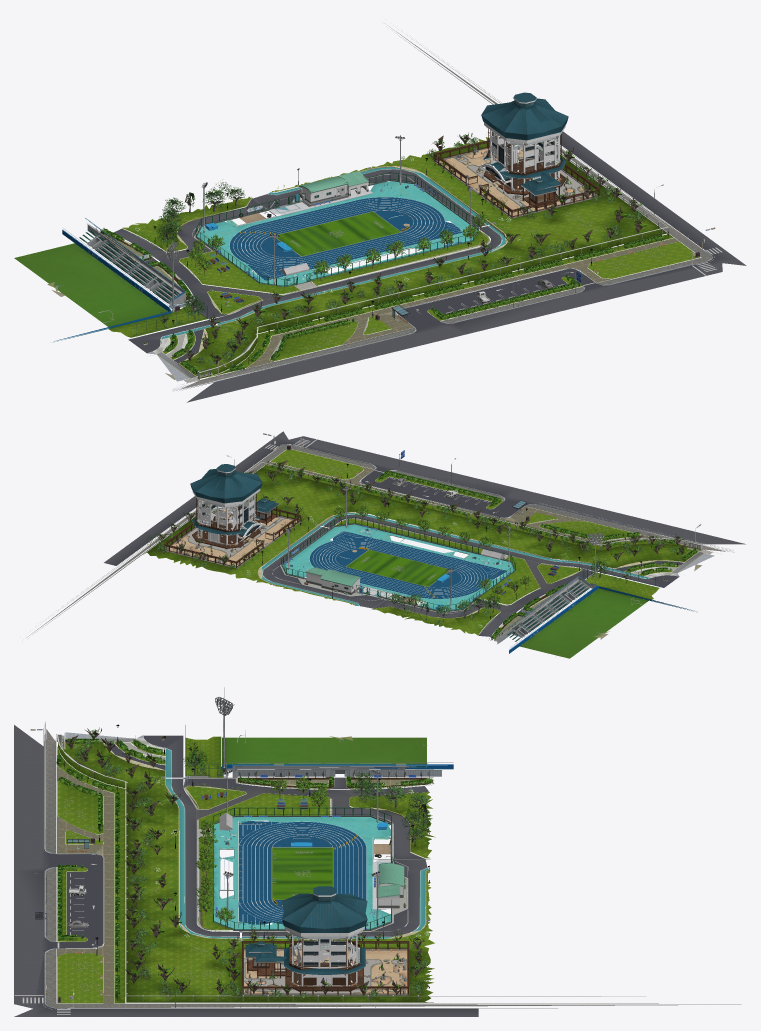
Rendered from raimonF7.glb.
The picture shows the model from 3 angles, top to bottom: view 1: azimuth 30°, elevation 25°; view 2: azimuth 150°, elevation 25°; view 3: azimuth 270°, elevation 25°; orthographic projection. The views are drawn at different scales.
Parts seen in each view (by area): view 1: w40g002__6__309__0_r7, w40g002__10__313__0_r7, w40h004__9__447__0, w40h004__0__439__0, w40h007__0__457__0, w40h021__10__218__0_r7, w40h004__16__454__0, w40g000__15__342__0_r7, w40g002__15__317__0_r7, w40g002__3__306__0_r7, w40h007__7__464__0, w40h004__14__452__0 (+24 smaller); view 2: w40g002__6__309__0_r7, w40g002__10__313__0_r7, w40h004__9__447__0, w40h007__0__457__0, w40h004__0__439__0, w40h021__10__218__0_r7, w40h004__16__454__0, w40g000__15__342__0_r7, w40g002__3__306__0_r7, w40h007__7__464__0, w40h004__14__452__0, w40g002__15__317__0_r7 (+26 smaller); view 3: w40g002__6__309__0_r7, w40g002__10__313__0_r7, w40h004__9__447__0, w40h007__0__457__0, w40g000__15__342__0_r7, w40h021__10__218__0_r7, w40h004__0__439__0, w40h004__16__454__0, w40g002__15__317__0_r7, w40h007__7__464__0, w40g002__3__306__0_r7, w40h004__14__452__0 (+28 smaller).
Part boxes in pixels (x1,y1,x2,y2): w40g002__6__309__0_r7: [123, 137, 699, 378]; w40g002__10__313__0_r7: [114, 131, 746, 402]; w40h004__9__447__0: [229, 197, 462, 280]; w40h004__0__439__0: [195, 171, 478, 286]; w40h007__0__457__0: [433, 97, 600, 218]; w40h021__10__218__0_r7: [14, 243, 167, 327]; w40h004__16__454__0: [197, 181, 477, 286]; w40g000__15__342__0_r7: [181, 26, 711, 388]; w40g002__15__317__0_r7: [52, 232, 678, 379]; w40g002__3__306__0_r7: [106, 166, 712, 391]; w40h007__7__464__0: [481, 92, 568, 194]; w40h004__14__452__0: [275, 211, 400, 256]; w40g002__6__309__0_r7: [143, 449, 700, 635]; w40g002__10__313__0_r7: [104, 431, 745, 638]; w40h004__9__447__0: [309, 531, 506, 598]; w40h007__0__457__0: [163, 468, 300, 568]; w40h004__0__439__0: [281, 523, 515, 612]; w40h021__10__218__0_r7: [519, 588, 648, 658]; w40h004__16__454__0: [282, 524, 514, 611]; w40g000__15__342__0_r7: [26, 445, 727, 637]; w40g002__3__306__0_r7: [257, 444, 733, 634]; w40h007__7__464__0: [190, 464, 278, 535]; w40h004__14__452__0: [346, 550, 449, 586]; w40g002__15__317__0_r7: [266, 462, 701, 641]; w40g002__6__309__0_r7: [57, 741, 435, 1003]; w40g002__10__313__0_r7: [14, 725, 478, 1016]; w40h004__9__447__0: [238, 820, 366, 924]; w40h007__0__457__0: [242, 893, 409, 995]; w40g000__15__342__0_r7: [45, 729, 741, 1008]; w40h021__10__218__0_r7: [222, 737, 426, 765]; w40h004__0__439__0: [213, 812, 404, 930]; w40h004__16__454__0: [214, 817, 390, 929]; w40g002__15__317__0_r7: [57, 766, 433, 1003]; w40h007__7__464__0: [245, 886, 367, 974]; w40g002__3__306__0_r7: [44, 724, 429, 1008]; w40h004__14__452__0: [272, 847, 332, 899].
Size of the model in its own units: 193 by 26.69 by 191.
119 materials, 118 textured.
